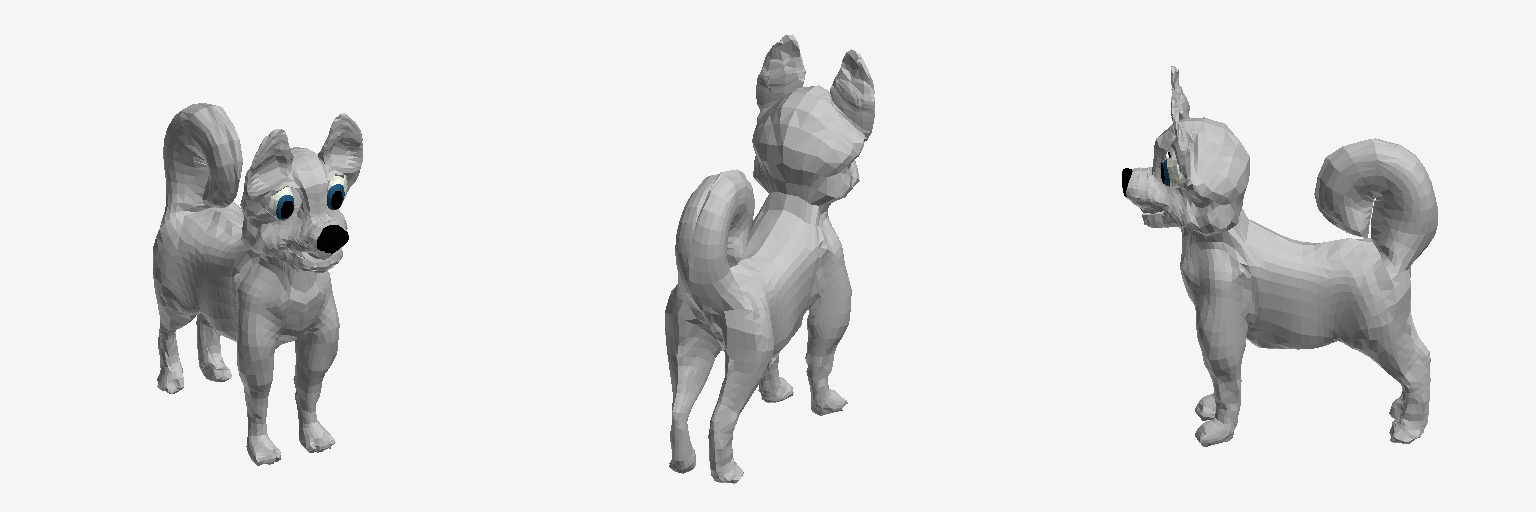
The model's file is cookie_model_23_12.obj.
3 renders of one model, left to right at view 1: azimuth 30°, elevation 25°; view 2: azimuth 150°, elevation 25°; view 3: azimuth 270°, elevation 25°, orthographic.
Parts seen in each view (by area): view 1: cookie_Group50196; view 2: cookie_Group50196; view 3: cookie_Group50196.
Boxes of the visible parts, box(x1,y1,x2,y2) form: cookie_Group50196: box(153, 103, 362, 465); cookie_Group50196: box(665, 35, 874, 483); cookie_Group50196: box(1122, 66, 1437, 446).
Size of the model in its own units: 2.59 by 7.28 by 6.01.